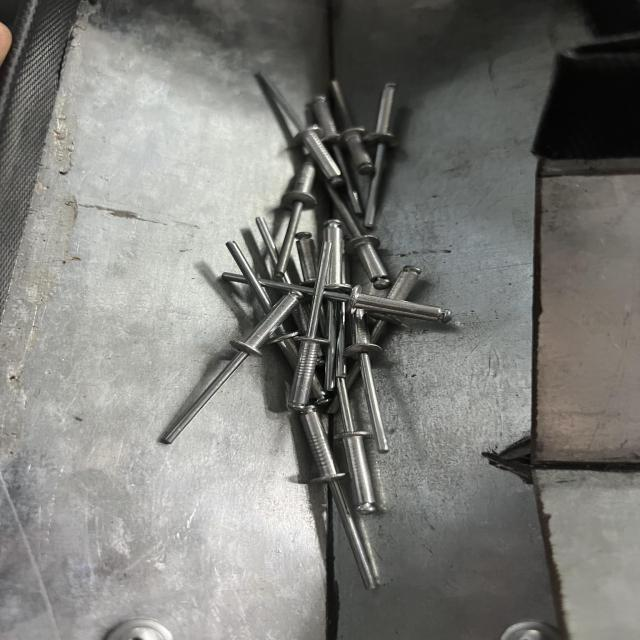rivet: (148, 290, 300, 452)
